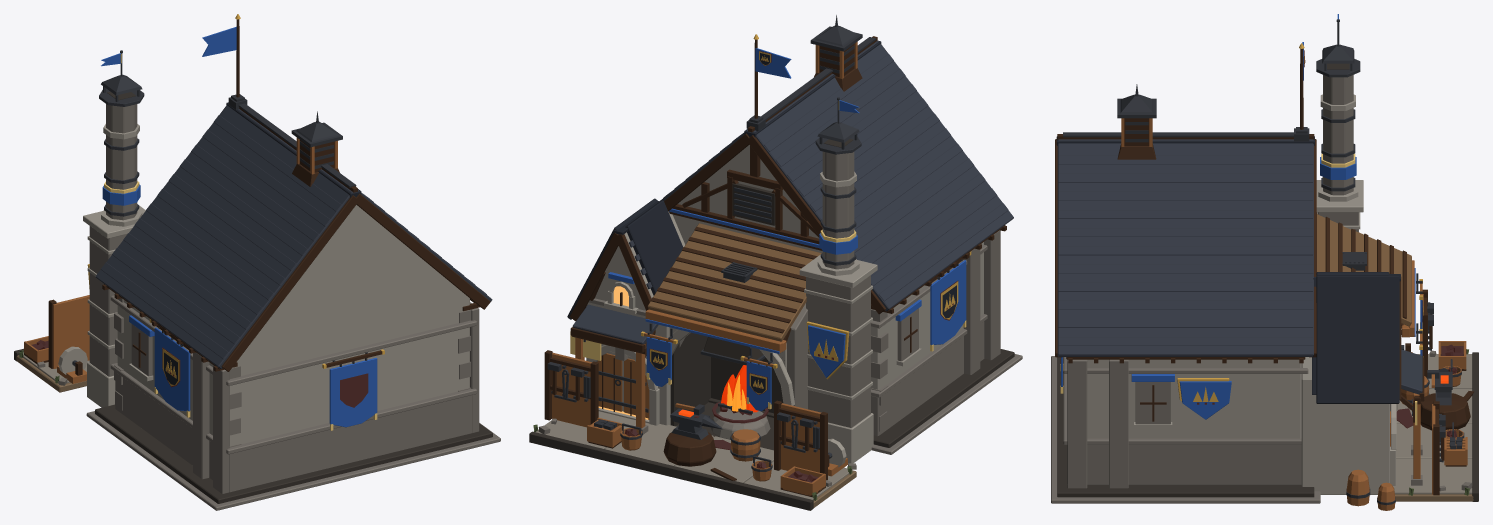
Rendered from 铁匠铺_低模.glb.
The picture shows the model from 3 angles, left to right: view 1: azimuth 30°, elevation 25°; view 2: azimuth 150°, elevation 25°; view 3: azimuth 270°, elevation 25°; orthographic projection. The views are drawn at different scales.
Parts seen in each view (by area): view 1: BS-stone_light, BS-roof, BS-stone_mid, BS-wood_dark, BS-team, BS-stone_dark, BS-iron, BS-wood_warm, BS-coal, BS-roof_edge, BS-earth; view 2: BS-roof, BS-stone_mid, BS-wood_dark, BS-stone_light, BS-stone_dark, BS-wood_warm, BS-iron, BS-roof_wood, BS-team, BS-roof_edge, BS-paving, BS-gold (+3 smaller); view 3: BS-roof, BS-stone_mid, BS-stone_light, BS-roof_edge, BS-wood_dark, BS-iron, BS-stone_dark, BS-wood_warm, BS-paving, BS-roof_wood, BS-team, BS-coal (+2 smaller).
Boxes of the visible parts, x1=… form: BS-stone_light: x1=58, y1=124, x2=469, y2=446; BS-roof: x1=95, y1=105, x2=492, y2=368; BS-stone_mid: x1=37, y1=104, x2=500, y2=510; BS-wood_dark: x1=24, y1=19, x2=490, y2=375; BS-team: x1=101, y1=26, x2=377, y2=427; BS-stone_dark: x1=14, y1=91, x2=492, y2=503; BS-iron: x1=72, y1=50, x2=367, y2=366; BS-wood_warm: x1=24, y1=137, x2=337, y2=383; BS-coal: x1=31, y1=340, x2=368, y2=407; BS-roof_edge: x1=164, y1=102, x2=361, y2=384; BS-earth: x1=16, y1=355, x2=86, y2=392; BS-roof: x1=572, y1=40, x2=1013, y2=344; BS-stone_mid: x1=538, y1=151, x2=1022, y2=486; BS-wood_dark: x1=544, y1=36, x2=1006, y2=497; BS-stone_light: x1=586, y1=145, x2=983, y2=467; BS-stone_dark: x1=529, y1=139, x2=1014, y2=510; BS-wood_warm: x1=552, y1=41, x2=857, y2=495; BS-iron: x1=547, y1=15, x2=962, y2=471; BS-roof_wood: x1=648, y1=223, x2=821, y2=341; BS-team: x1=608, y1=48, x2=966, y2=411; BS-roof_edge: x1=567, y1=40, x2=956, y2=393; BS-paving: x1=535, y1=411, x2=852, y2=499; BS-gold: x1=641, y1=34, x2=971, y2=394; BS-roof: x1=1057, y1=139, x2=1422, y2=394; BS-stone_mid: x1=1051, y1=75, x2=1472, y2=503; BS-stone_light: x1=1087, y1=94, x2=1396, y2=494; BS-roof_edge: x1=1056, y1=136, x2=1422, y2=403; BS-wood_dark: x1=1055, y1=48, x2=1474, y2=495; BS-iron: x1=1063, y1=19, x2=1464, y2=505; BS-stone_dark: x1=1057, y1=63, x2=1478, y2=501; BS-wood_warm: x1=1121, y1=118, x2=1467, y2=510; BS-paving: x1=1393, y1=354, x2=1472, y2=494; BS-roof_wood: x1=1317, y1=214, x2=1411, y2=326; BS-team: x1=1061, y1=14, x2=1422, y2=419; BS-coal: x1=1060, y1=50, x2=1463, y2=437.
Size of the model in its own units: 9.93 by 11.83 by 11.81.
